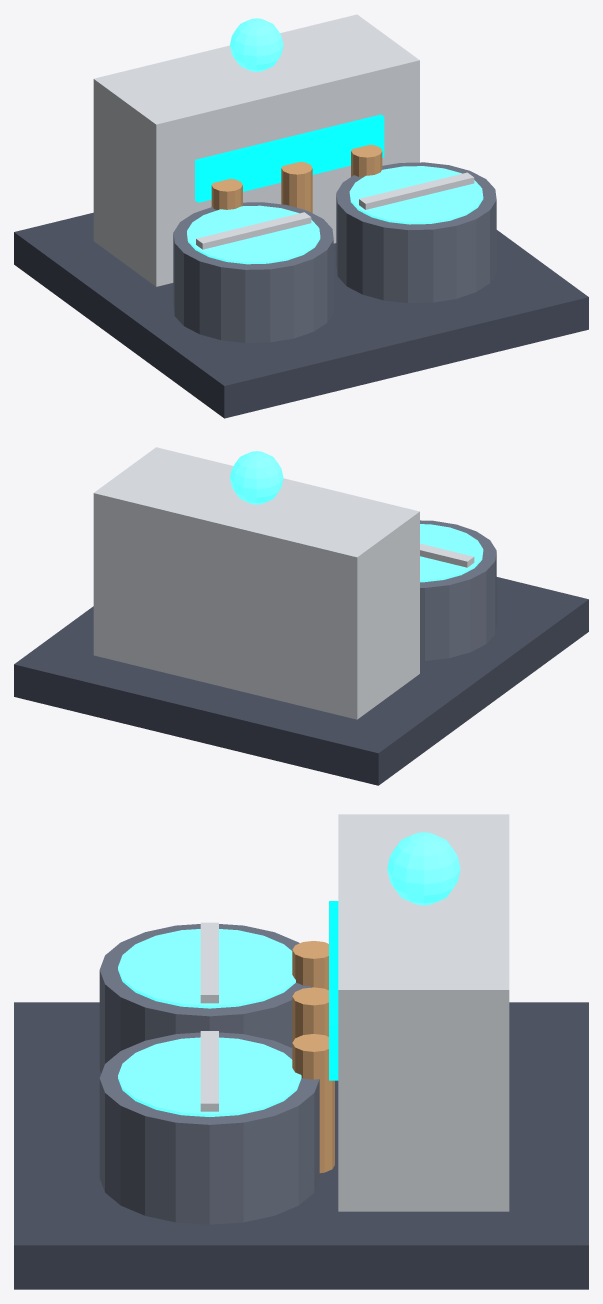
File: landmark_sewage_plant.glb
The picture shows the model from 3 angles, top to bottom: view 1: azimuth 30°, elevation 25°; view 2: azimuth 150°, elevation 25°; view 3: azimuth 270°, elevation 25°; orthographic projection. The views are drawn at different scales.
Parts seen in each view (by area): view 1: PumpHouse, plinth, BasinWall_1, BasinWall_0, PumpWindow, BasinWater_1, BasinWater_0, StatusBeacon, SkimmerArm_1, SkimmerArm_0, Pipe_0.0, Pipe_0.18 (+1 smaller); view 2: PumpHouse, plinth, BasinWall_0, BasinWater_0, StatusBeacon, SkimmerArm_0; view 3: plinth, PumpHouse, BasinWall_1, BasinWater_1, BasinWater_0, BasinWall_0, StatusBeacon, Pipe_0.18, PumpWindow, Pipe_0.0, Pipe_-0.18, SkimmerArm_0 (+1 smaller).
Part boxes in pixels (box(x1,y1,x2,y2)): PumpHouse: box(93, 14, 419, 286); plinth: box(14, 212, 588, 418); BasinWall_1: box(336, 162, 496, 303); BasinWall_0: box(173, 202, 333, 342); PumpWindow: box(195, 114, 384, 202); BasinWater_1: box(349, 166, 483, 224); BasinWater_0: box(187, 205, 320, 264); StatusBeacon: box(230, 18, 283, 71); SkimmerArm_1: box(359, 172, 474, 209); SkimmerArm_0: box(196, 212, 311, 249); Pipe_0.0: box(281, 161, 312, 212); Pipe_0.18: box(351, 144, 382, 177); PumpHouse: box(93, 447, 419, 719); plinth: box(14, 577, 588, 785); BasinWall_0: box(420, 520, 496, 660); BasinWater_0: box(420, 524, 483, 582); StatusBeacon: box(230, 451, 283, 504); SkimmerArm_0: box(420, 543, 474, 567); plinth: box(14, 1002, 588, 1289); PumpHouse: box(338, 814, 509, 1211); BasinWall_1: box(99, 1032, 319, 1224); BasinWater_1: box(118, 1037, 301, 1116); BasinWater_0: box(118, 929, 295, 1008); BasinWall_0: box(99, 924, 311, 1073); StatusBeacon: box(387, 832, 460, 905); Pipe_0.18: box(292, 1034, 334, 1173); PumpWindow: box(329, 901, 338, 1080); Pipe_0.0: box(292, 987, 328, 1042); Pipe_-0.18: box(292, 941, 328, 990); SkimmerArm_0: box(200, 922, 218, 1003).
Size of the model in its own units: 0.94 by 0.6 by 0.94.
